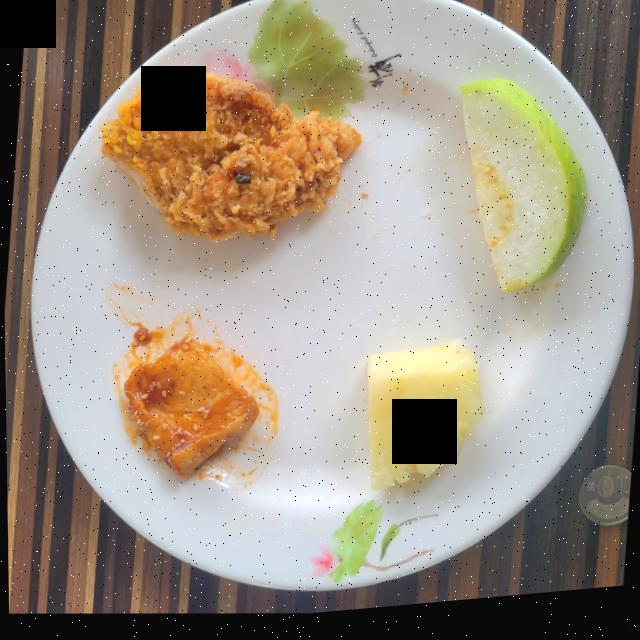coin: (577, 475, 629, 535)
creamy tofu: (122, 340, 257, 479)
fried chicken cutlet: (99, 73, 360, 244)
guava -sliced-: (460, 86, 586, 300)
pineapple: (366, 348, 482, 497)
